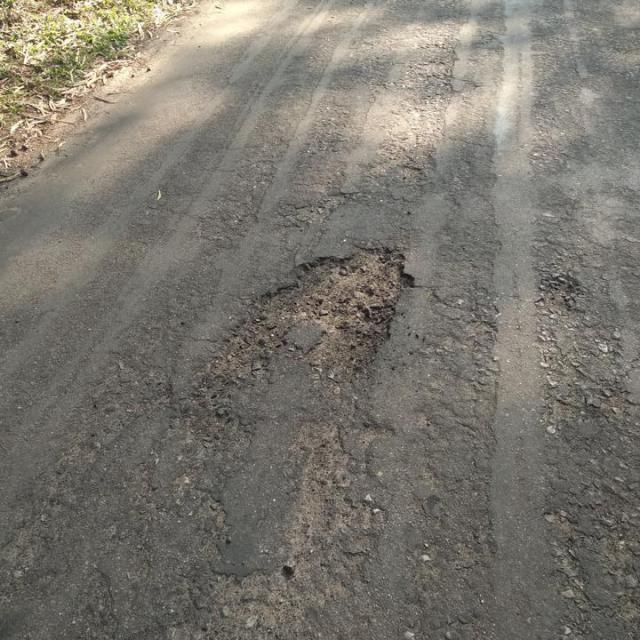buraco: (207, 238, 418, 389), (225, 242, 419, 378), (532, 274, 589, 319), (535, 270, 584, 318)
